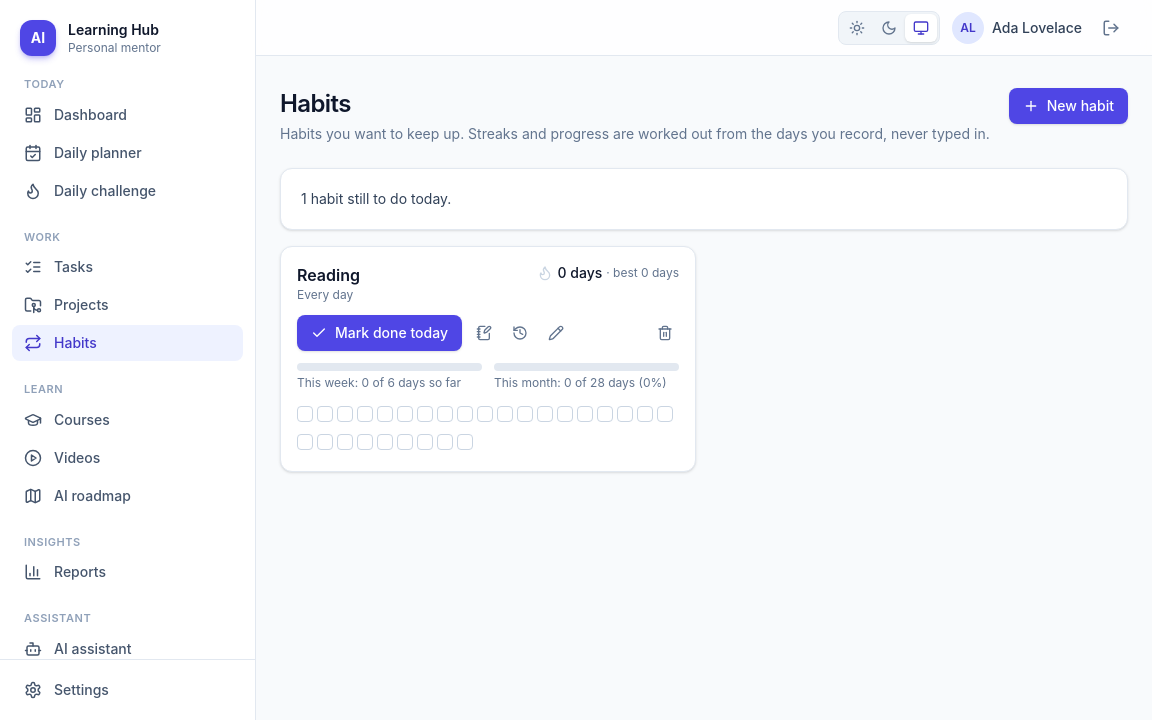
it: habits page › records an amount and note for a chosen day and validates it
Expected: the heading "Habits" is shown, [280,89,351,118]
Click the button named "Add details for Reading" at (484, 333), box [470,319,498,347]
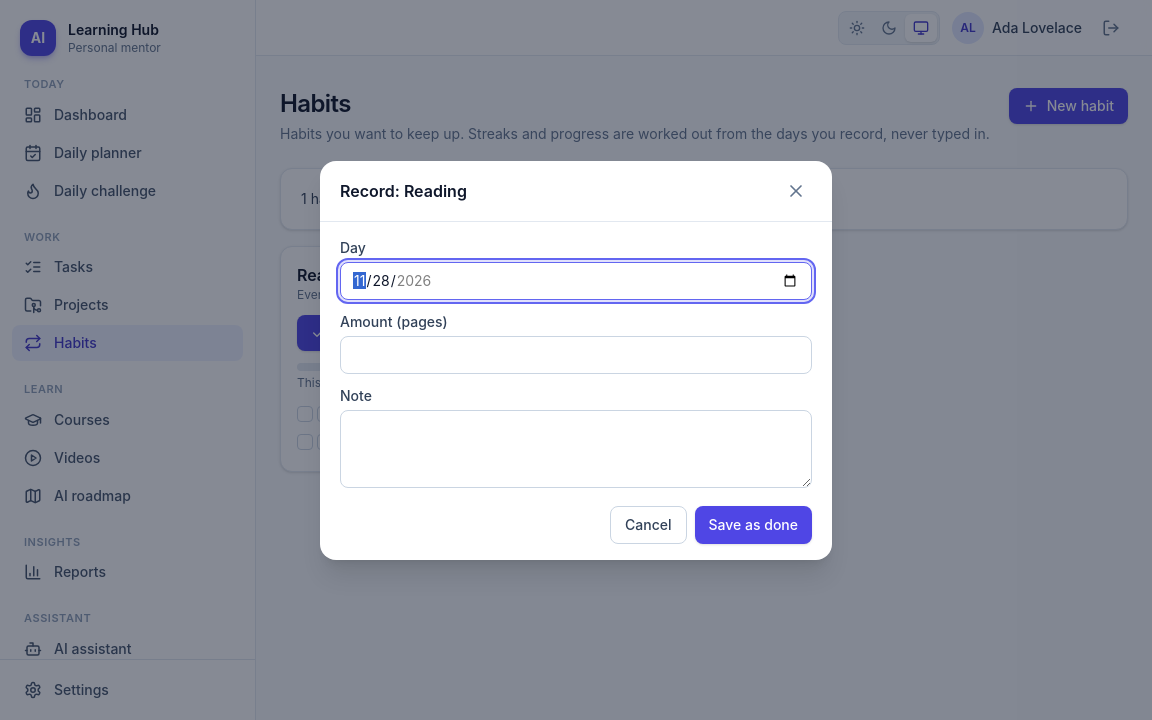
Type "-5" into the number field labelled "Amount (pages)" at (576, 354), box [340,336,812,374]
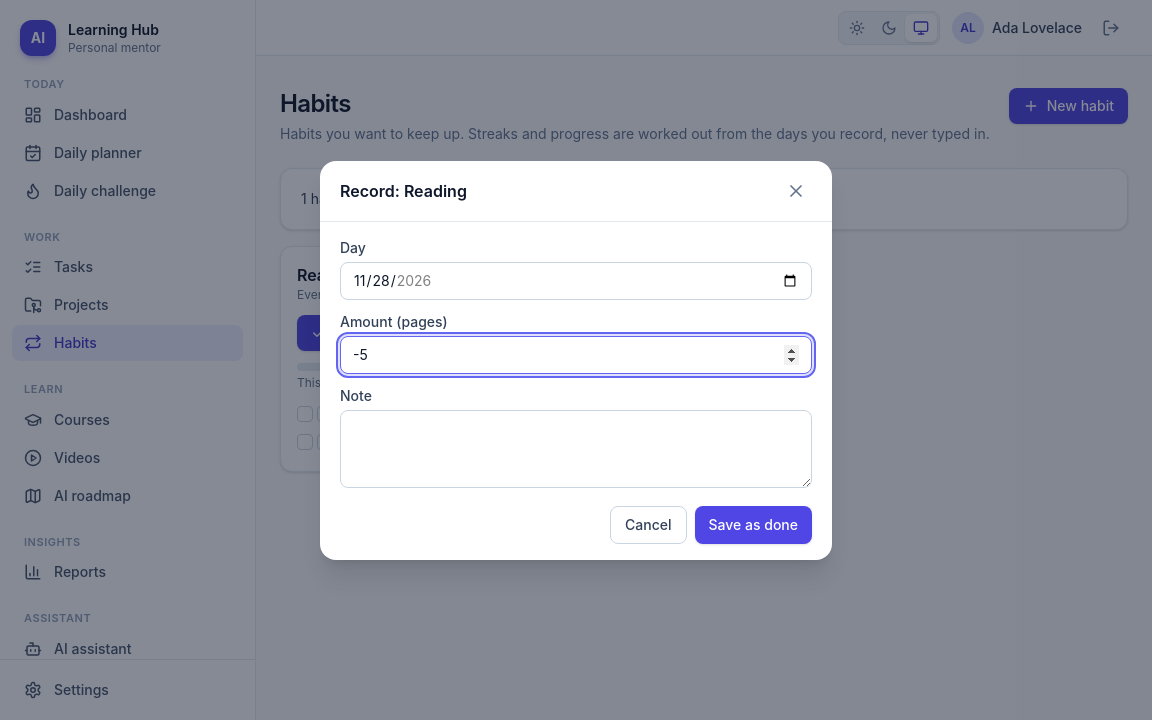
Click the button "Save as done" at (753, 524), box [694,506,812,544]
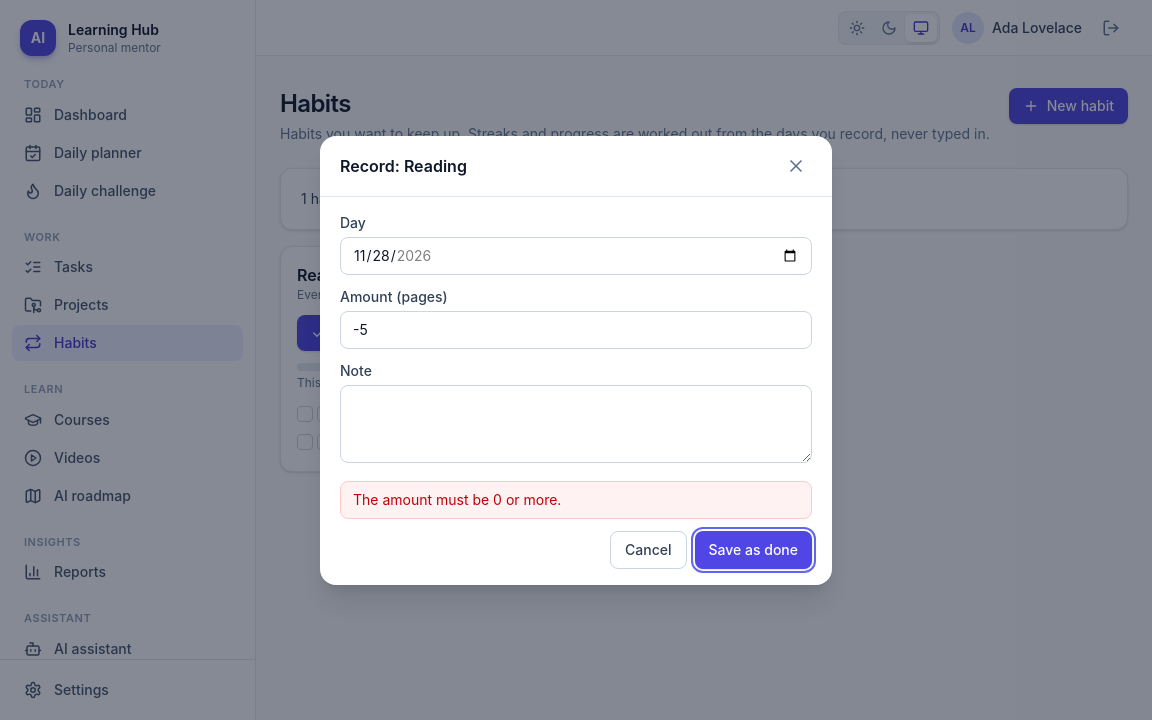
Now the message shows "0 or more", box [353,490,561,508]
Replace the text in the number field labelled "Amount (pages)" with "25" at (576, 330), box [340,310,812,348]
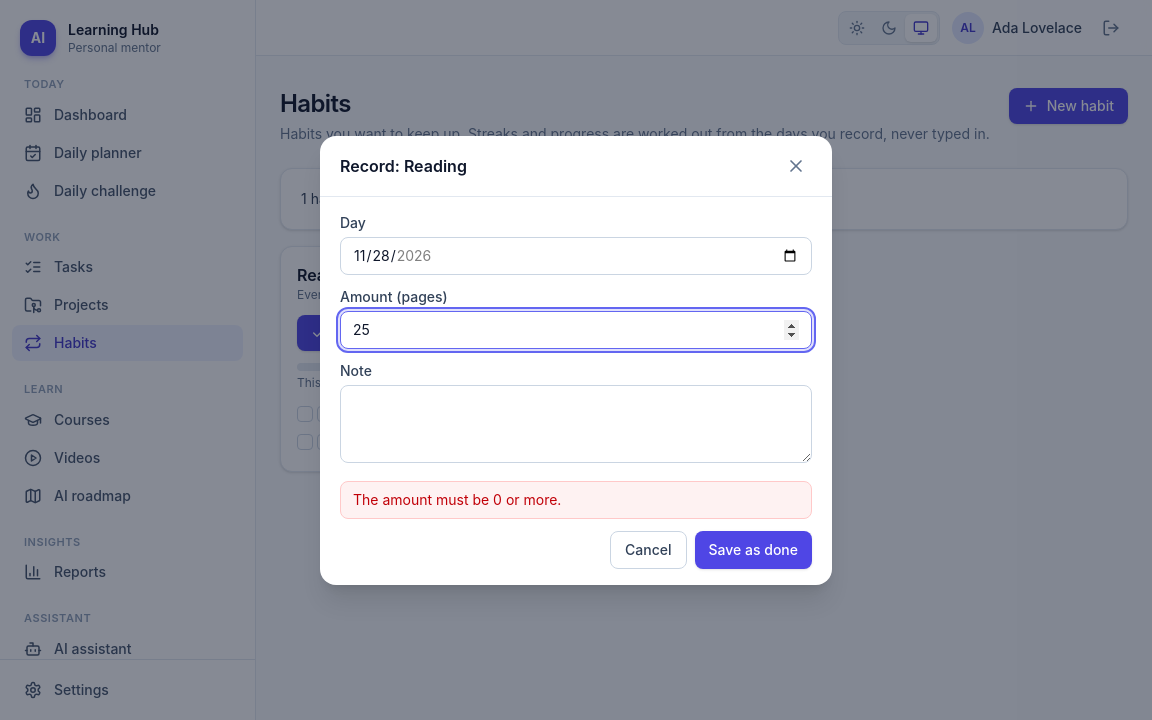
Type "chapter 4" into the text box labelled "Note" at (576, 424), box [340,384,812,462]
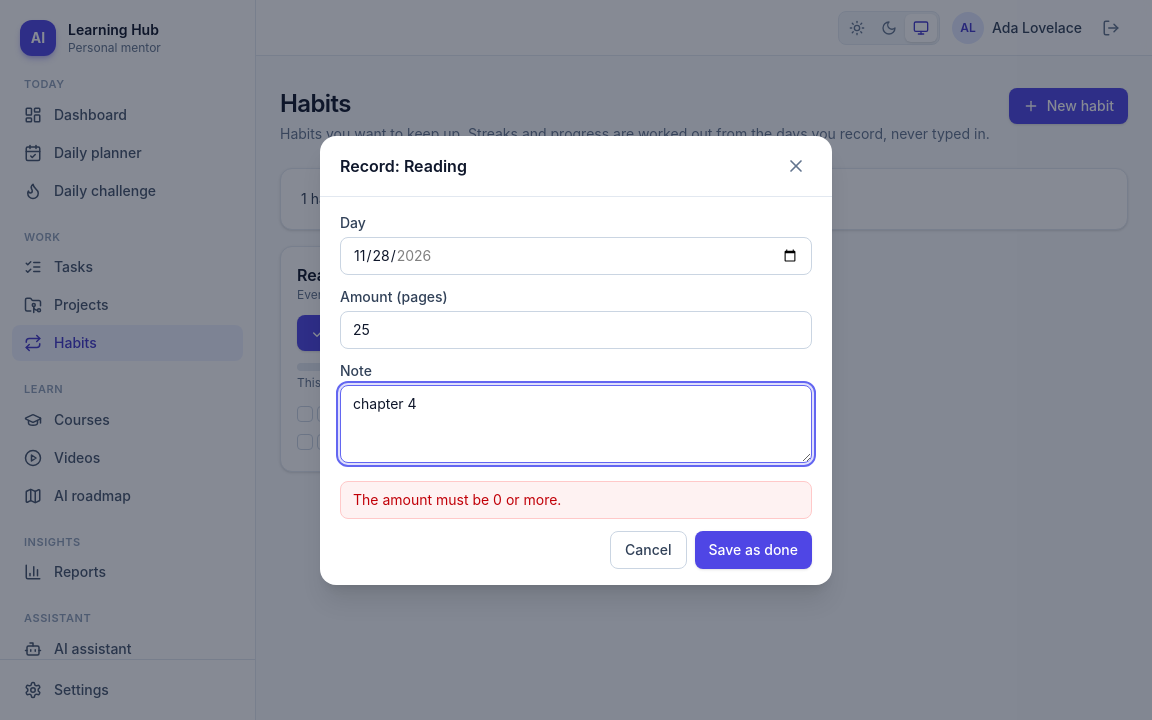
Click the button "Save as done" at (753, 550), box [694,530,812,568]
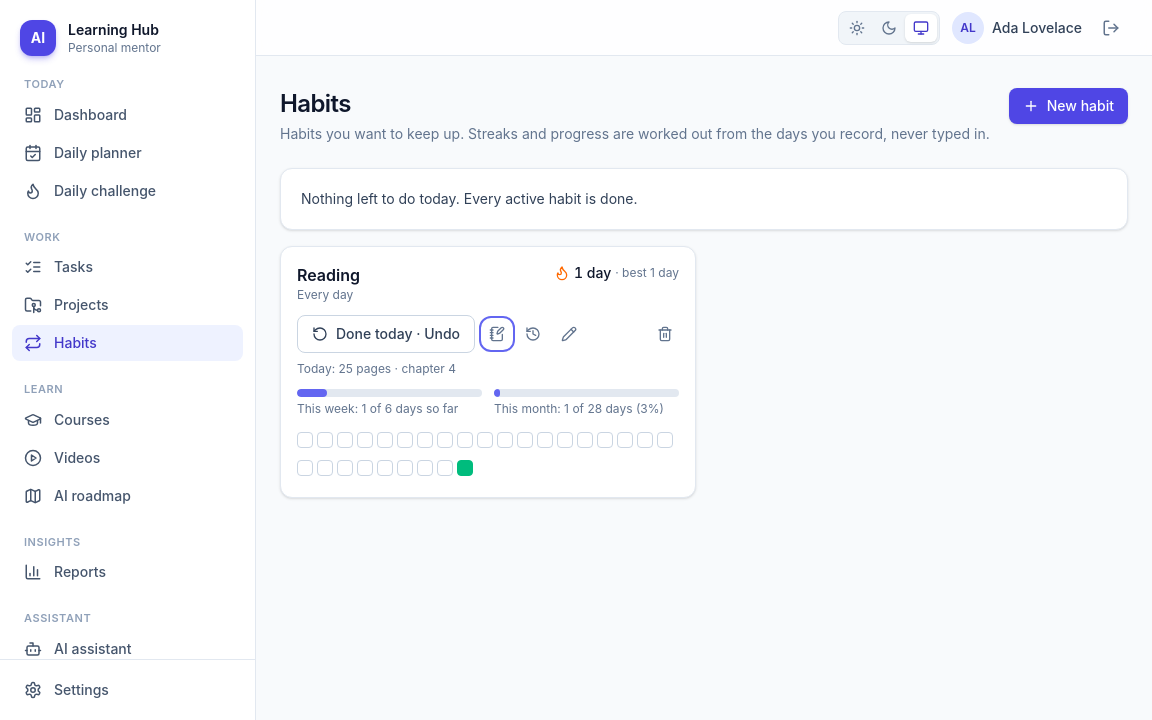
Now the text "Today: 25 pages · chapter 4" is shown, box [297,361,456,376]
